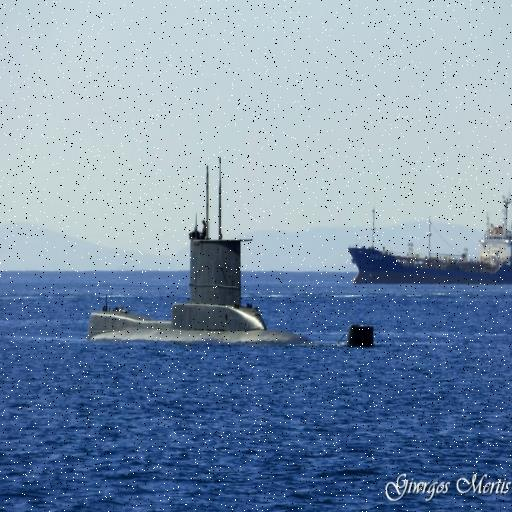submarine: (60, 233, 380, 347)
